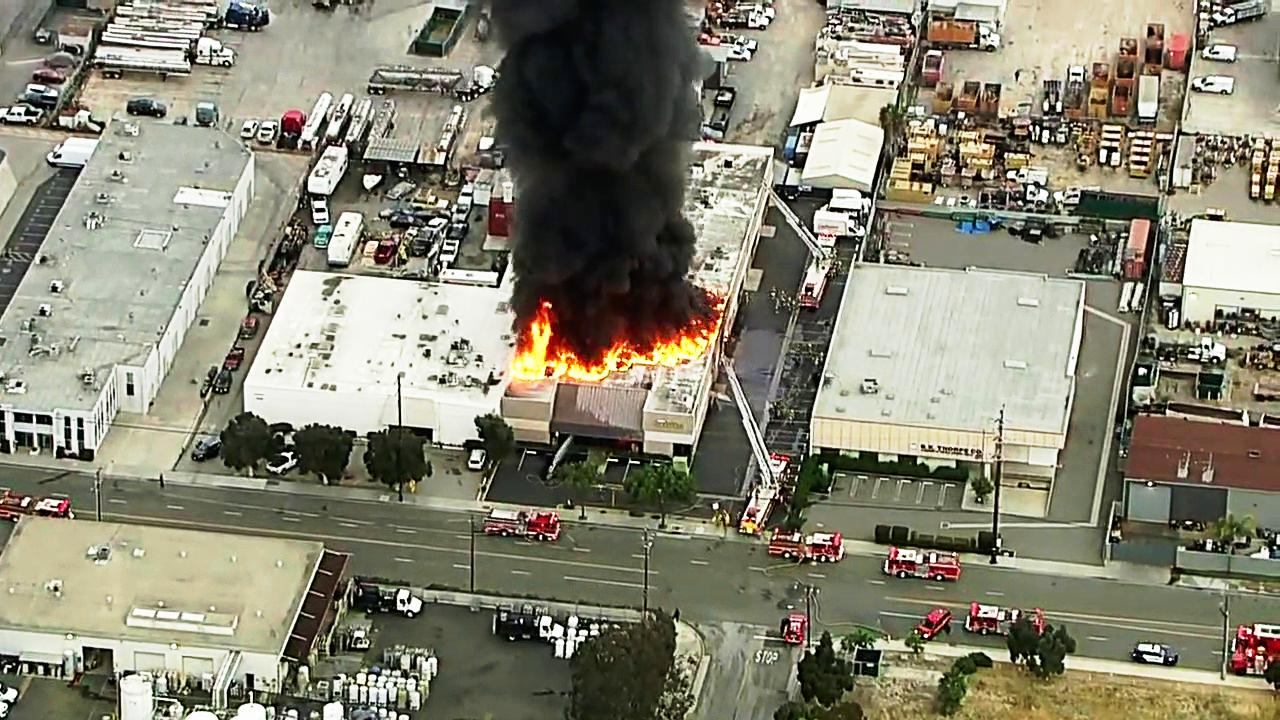fire: (504, 302, 558, 388)
smoke: (501, 0, 690, 312)
